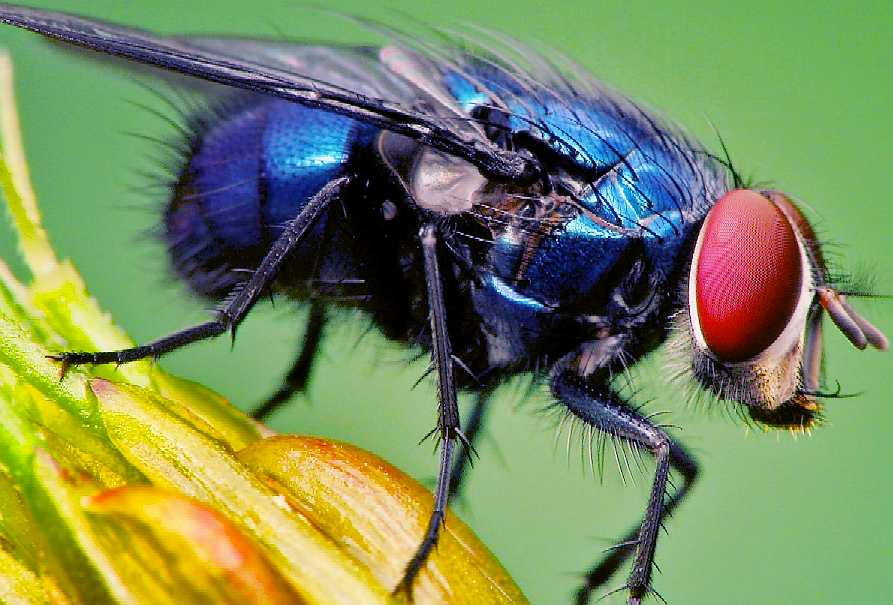green bottles fly: (4, 4, 888, 534)
